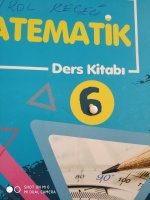Yuvarlak Buskopan: (88, 105, 99, 115)
